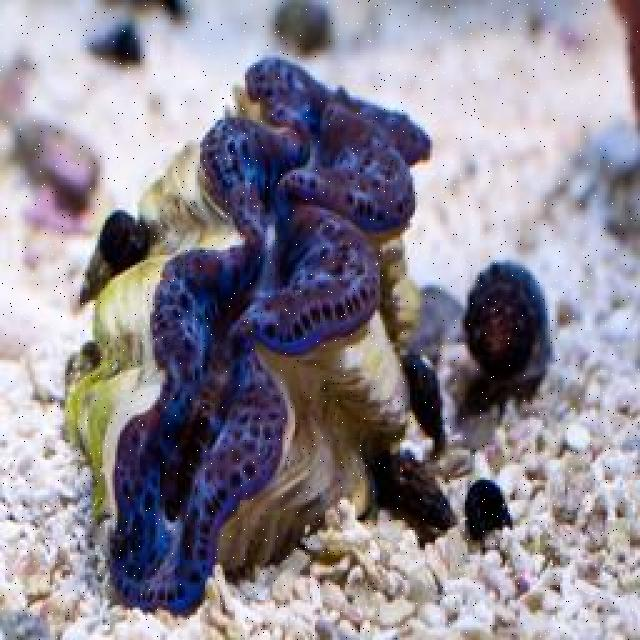reefs: (62, 55, 558, 611)
